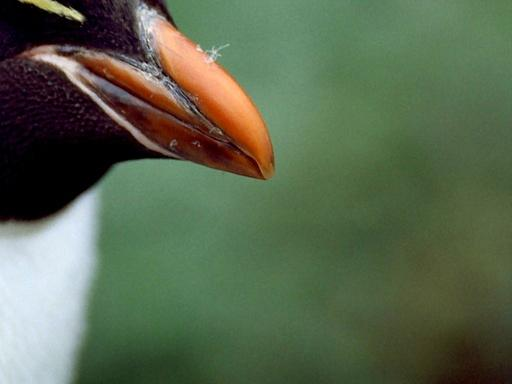Southern Rockhopper Penguin: (0, 0, 312, 383)
